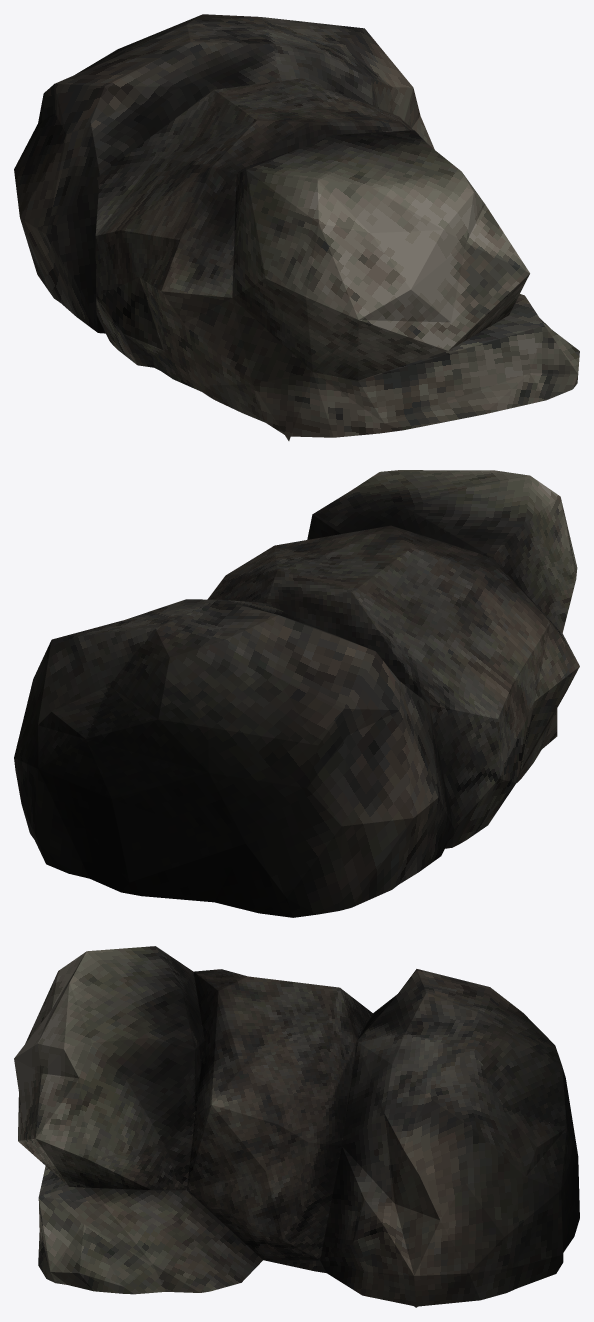
Rendered from rocks_03.glb.
3 renders of one model, top to bottom at view 1: azimuth 30°, elevation 25°; view 2: azimuth 150°, elevation 25°; view 3: azimuth 270°, elevation 25°, orthographic. The views are drawn at different scales.
Visible parts, largest first — view 1: rocks_03; view 2: rocks_03; view 3: rocks_03.
Part boxes in pixels (x1=…): rocks_03: x1=14, y1=14, x2=579, y2=440; rocks_03: x1=14, y1=470, x2=579, y2=917; rocks_03: x1=14, y1=946, x2=579, y2=1307.
Bounding box in the file's own units: 10.19 × 6.01 × 13.38.
Materials: 1 (1 with a texture image).
